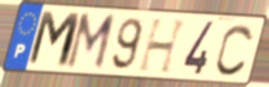4: (181, 20, 215, 77)
9: (110, 17, 145, 72)
C: (214, 22, 256, 78)
H: (136, 17, 190, 76)
M: (25, 9, 84, 71), (63, 12, 118, 73)
